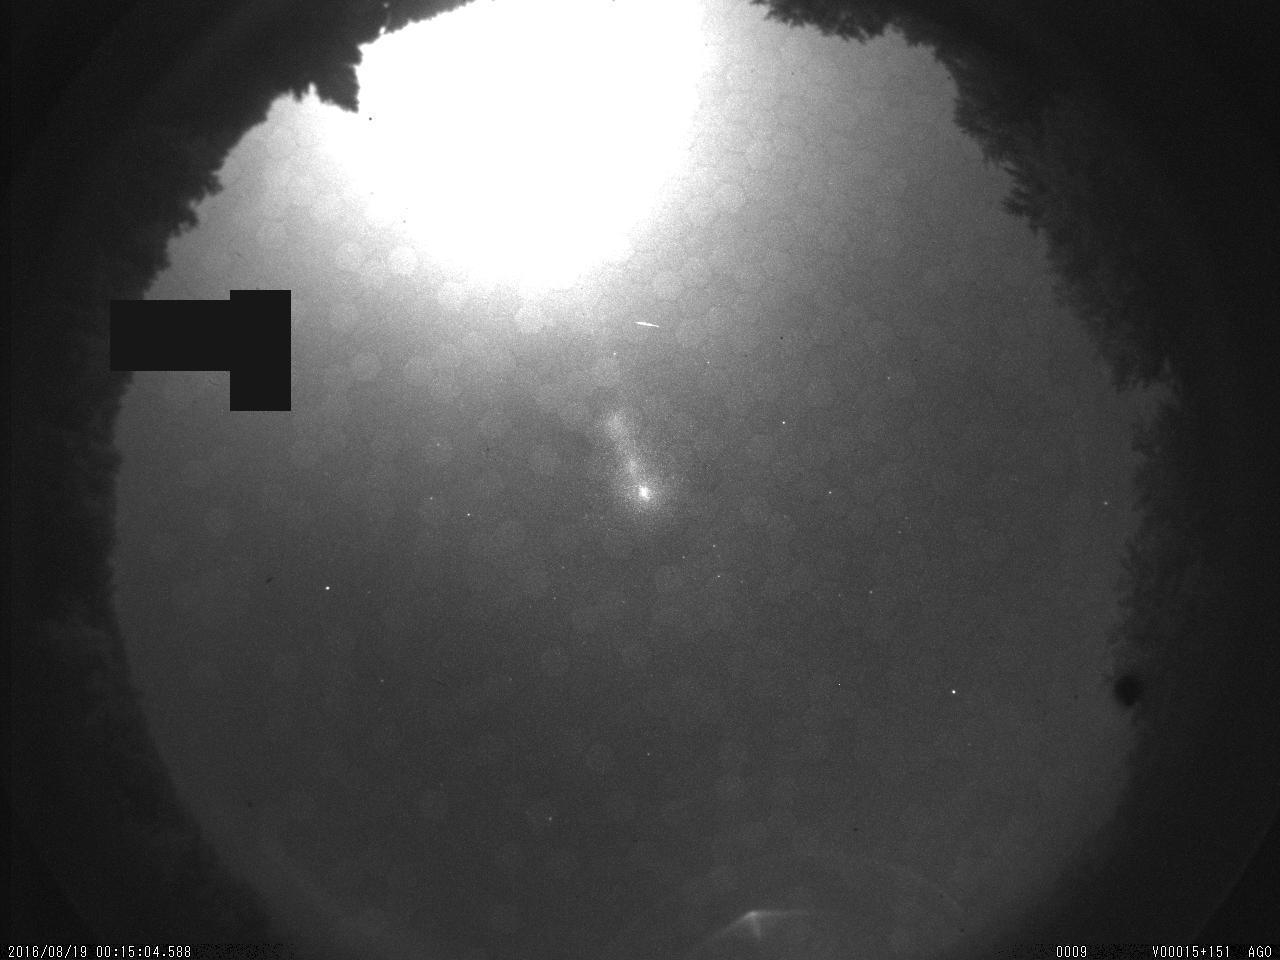Meteor: (630, 314, 670, 334)
